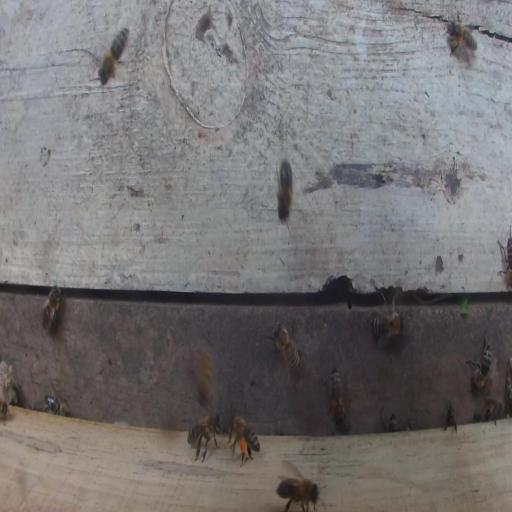bee: (89, 27, 131, 88), (187, 413, 224, 465), (275, 320, 303, 382), (228, 414, 260, 467), (274, 473, 318, 511), (319, 365, 347, 424), (465, 331, 493, 390), (449, 18, 479, 62), (372, 306, 404, 344), (276, 158, 293, 221), (42, 284, 62, 331), (44, 383, 71, 417), (496, 234, 512, 289), (484, 397, 504, 428), (444, 405, 458, 434)
